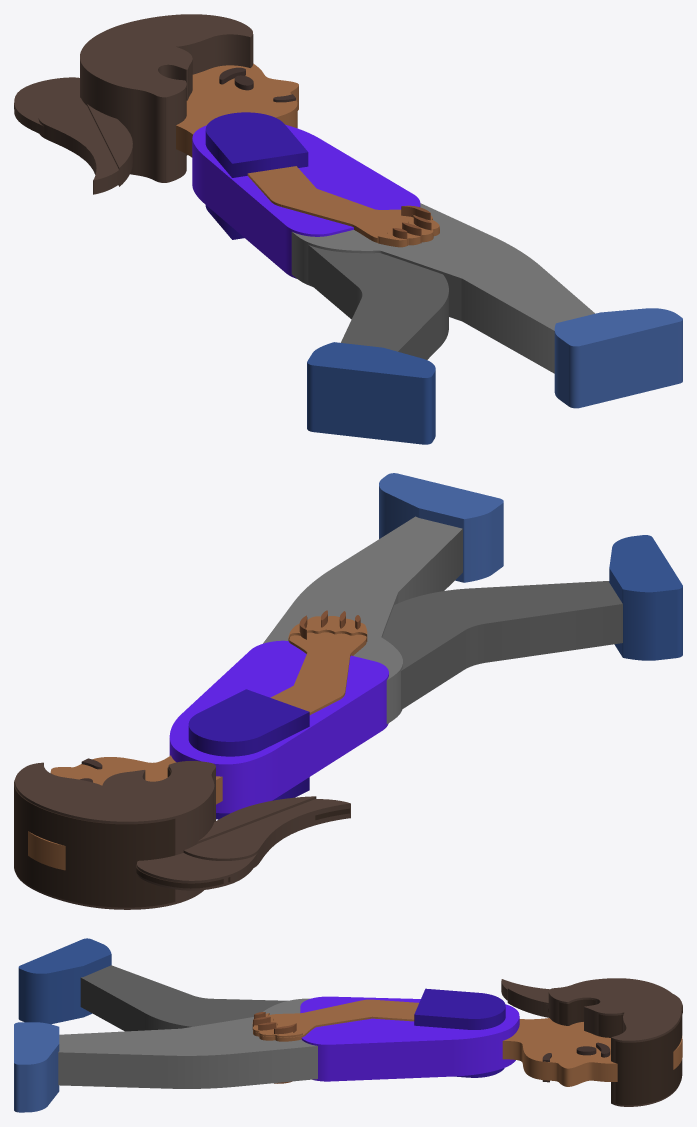
File: emoji_u1f6b6_1f3fe_200d_2640_200d_27a1.glb
The picture shows the model from 3 angles, top to bottom: view 1: azimuth 30°, elevation 25°; view 2: azimuth 150°, elevation 25°; view 3: azimuth 270°, elevation 25°; orthographic projection. The views are drawn at different scales.
Visible parts, largest first — view 1: emoji_u1f6b6_1f3fe_200d_2640_200d_27a1; view 2: emoji_u1f6b6_1f3fe_200d_2640_200d_27a1; view 3: emoji_u1f6b6_1f3fe_200d_2640_200d_27a1.
Part boxes in pixels (x1=…): emoji_u1f6b6_1f3fe_200d_2640_200d_27a1: x1=14, y1=14, x2=682, y2=444; emoji_u1f6b6_1f3fe_200d_2640_200d_27a1: x1=14, y1=473, x2=682, y2=909; emoji_u1f6b6_1f3fe_200d_2640_200d_27a1: x1=14, y1=938, x2=682, y2=1112.
Size of the model in its own units: 0.0145 by 0.0036 by 0.033.
